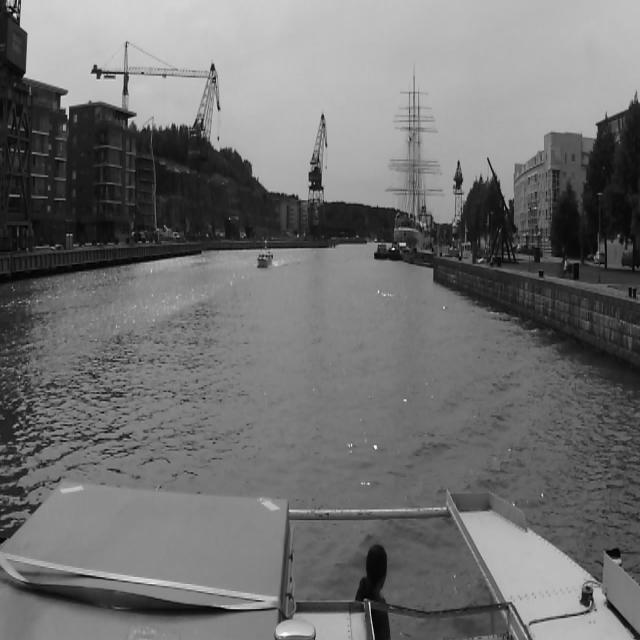ship: (388, 71, 442, 238), (256, 250, 274, 268), (376, 238, 386, 256)
